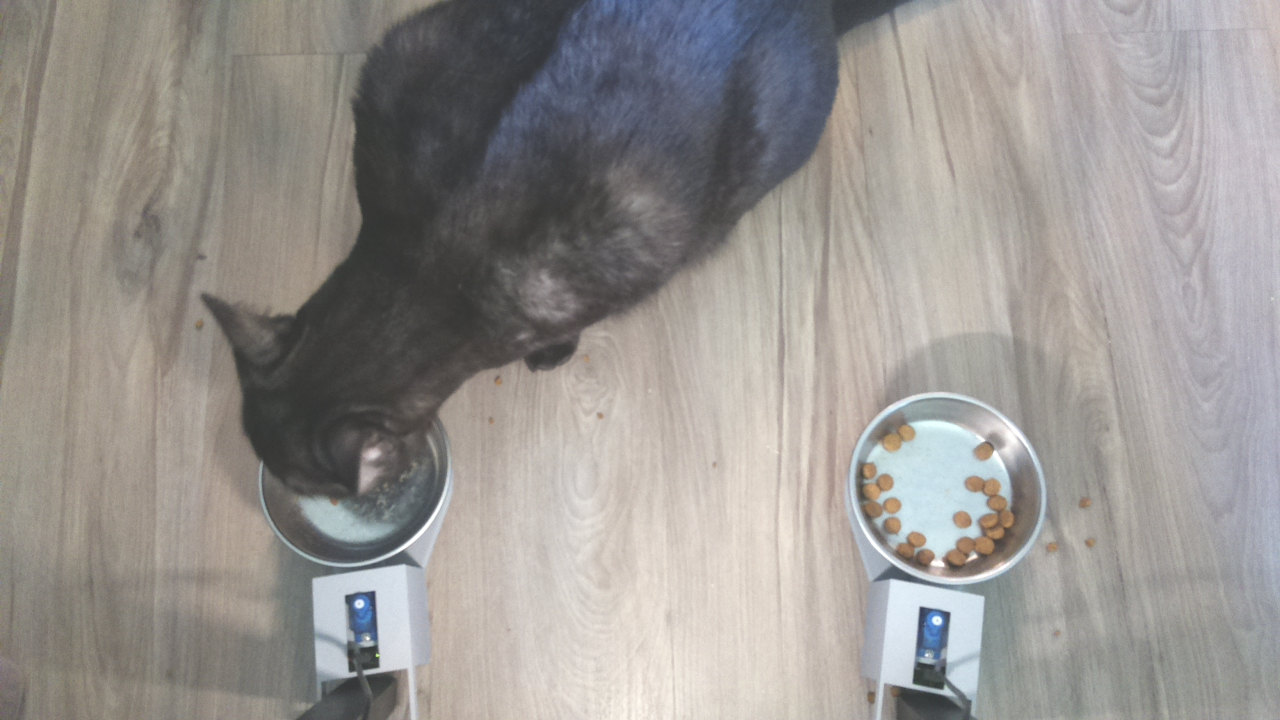open_bowl: (845, 387, 1051, 591)
saki_eating: (184, 276, 485, 573)
